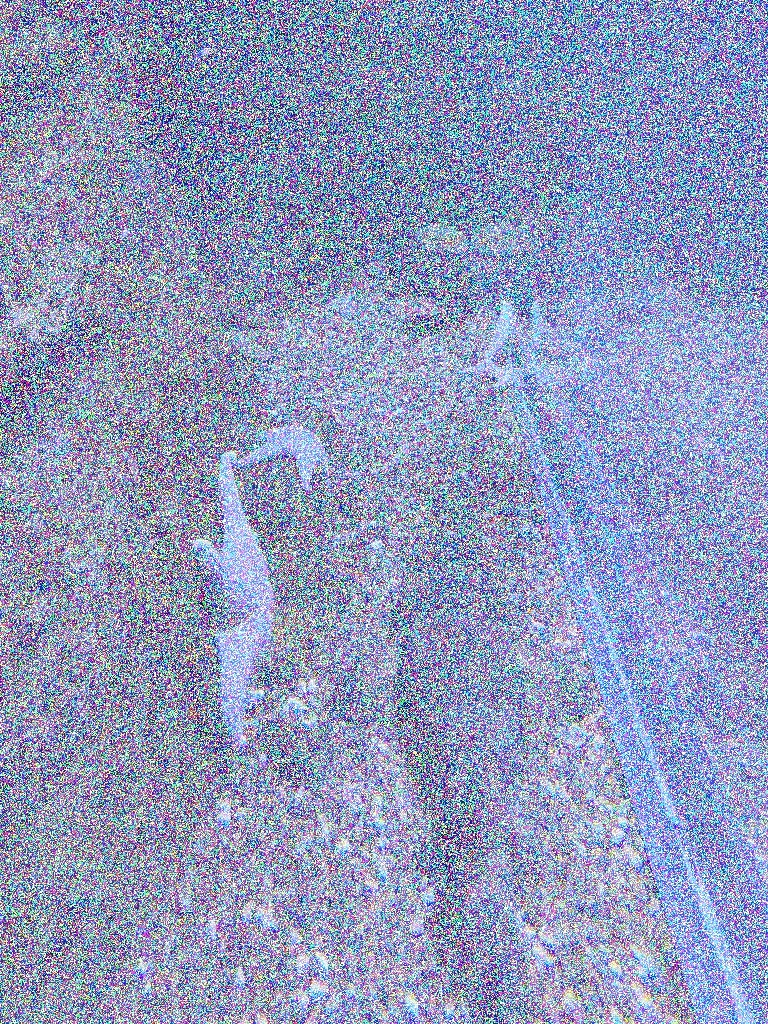shark: (344, 525, 586, 1021)
starfish: (194, 463, 276, 753), (237, 420, 347, 492), (461, 300, 522, 392)
